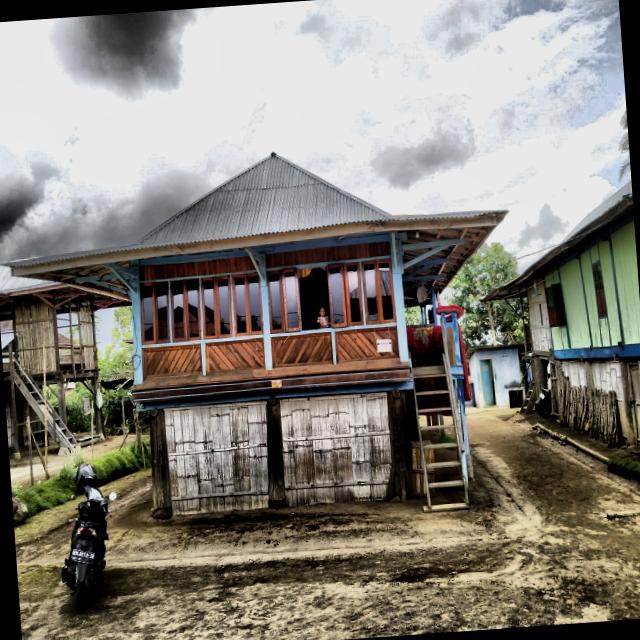roof: (10, 154, 505, 293), (10, 153, 488, 269), (138, 154, 391, 246), (482, 181, 632, 301), (0, 265, 126, 304), (563, 181, 632, 241), (0, 265, 57, 295), (465, 344, 523, 357)
stair: (412, 340, 468, 512), (12, 357, 77, 454), (518, 382, 533, 413)
wall: (279, 392, 391, 505), (544, 220, 639, 350), (561, 360, 627, 442), (610, 221, 639, 344), (469, 347, 520, 407), (526, 278, 552, 352)
window: (297, 267, 330, 330), (230, 274, 262, 336), (363, 262, 394, 324), (201, 278, 231, 338), (171, 281, 199, 342), (141, 283, 169, 343), (282, 270, 300, 330), (328, 266, 345, 326), (345, 265, 361, 324), (267, 273, 283, 331), (363, 264, 378, 323), (185, 281, 200, 339), (378, 263, 393, 320), (246, 276, 261, 332), (591, 262, 606, 317), (545, 284, 564, 327), (216, 279, 230, 336), (232, 277, 246, 334), (155, 283, 168, 342), (171, 282, 184, 341), (202, 280, 215, 337), (141, 285, 154, 342)
